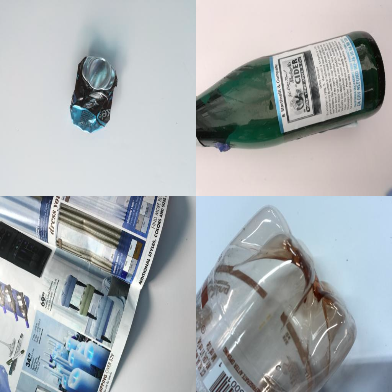glass: (195, 32, 387, 150)
metal: (69, 56, 117, 133)
paper: (1, 196, 170, 392)
plastic: (196, 206, 359, 391)
